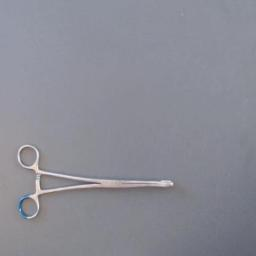Sponge Forceps: (14, 140, 182, 222)
